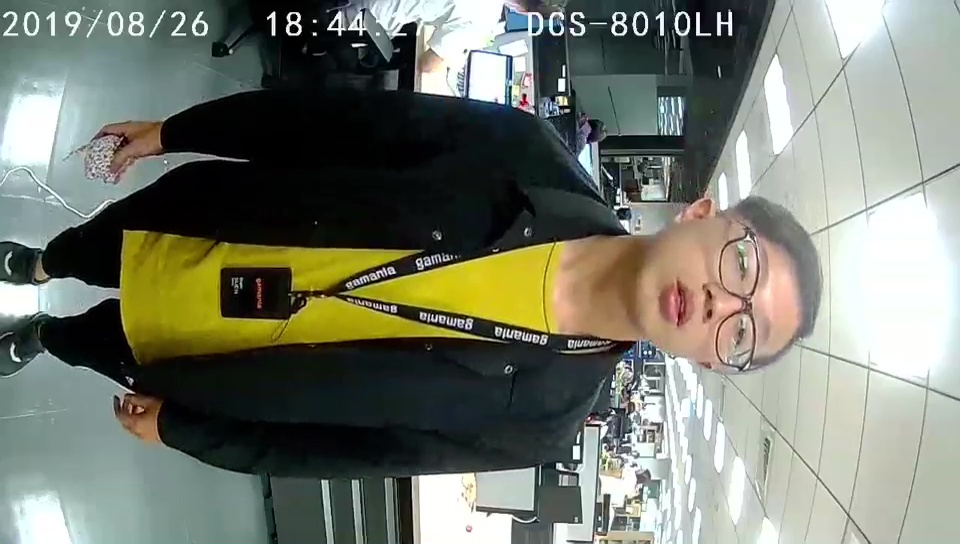pig: (85, 135, 129, 185)
